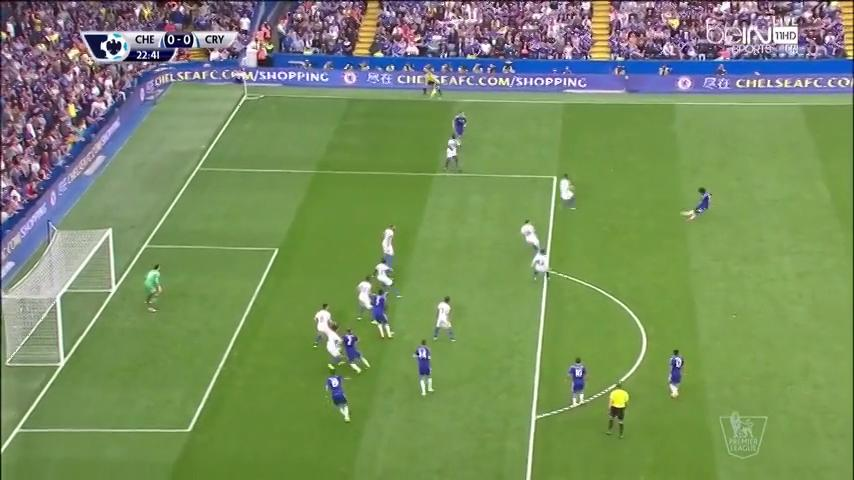football: (680, 209, 689, 217)
